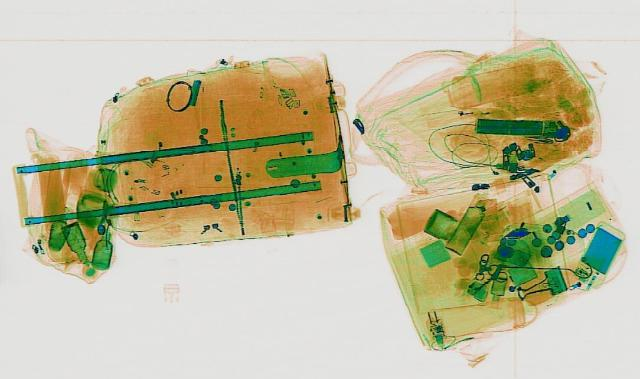Scissors: (462, 262, 514, 294)
